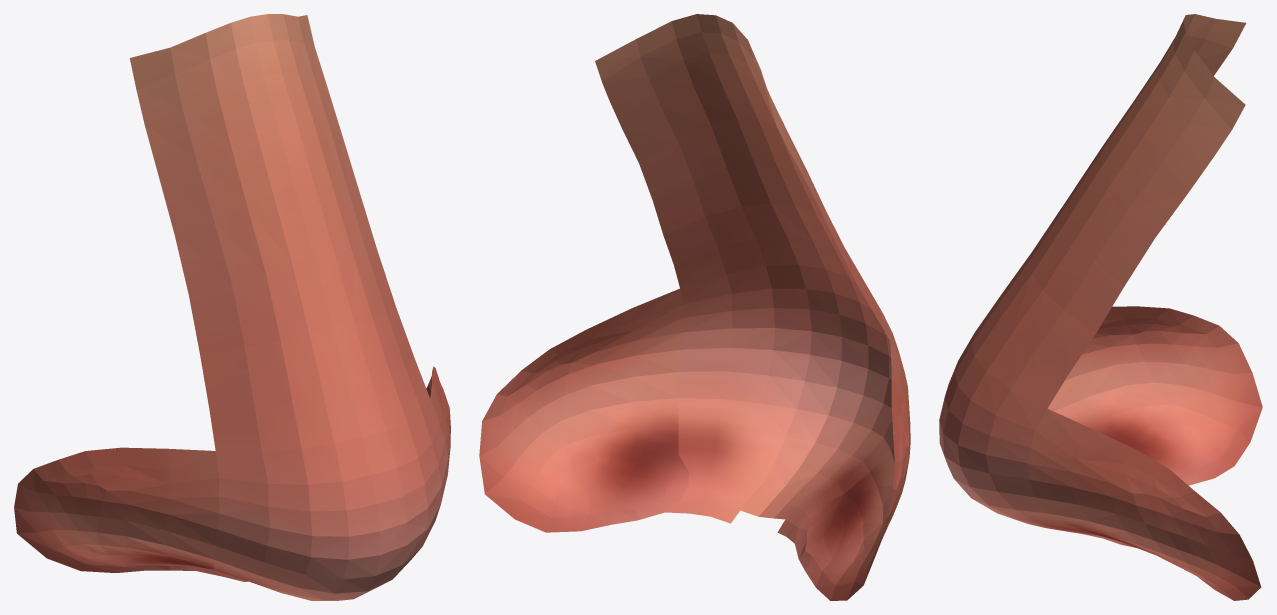
Rendered from euro-nose-avg.obj.
3 views of the same model, side by side, from view 1: azimuth 30°, elevation 25°; view 2: azimuth 150°, elevation 25°; view 3: azimuth 270°, elevation 25° (orthographic). The views are drawn at different scales.
Parts seen in each view (by area): view 1: euro-nose-avg.001; view 2: euro-nose-avg.001; view 3: euro-nose-avg.001.
Part boxes in pixels (x1,y1,x2,y2): euro-nose-avg.001: (14, 14, 450, 600); euro-nose-avg.001: (479, 14, 910, 600); euro-nose-avg.001: (939, 14, 1262, 600).
Bounding box in the file's own units: 0.6827 × 0.8638 × 0.4917.
Materials: 1 (1 with a texture image).
